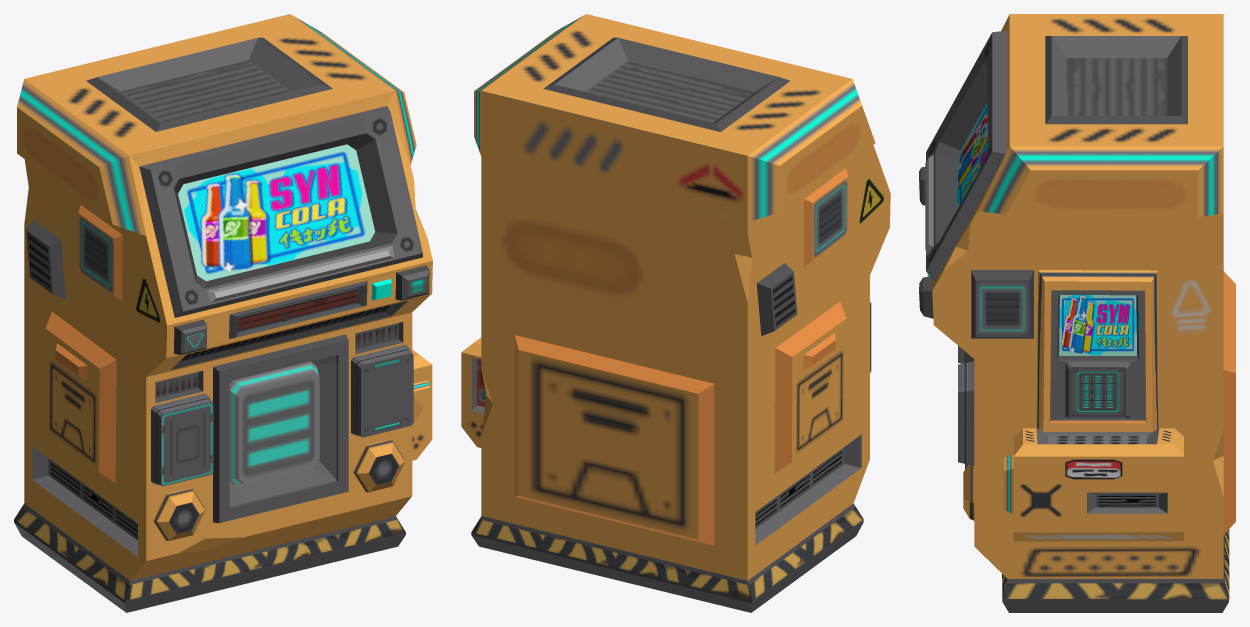
File: SM_Prop_Street_Console_02.fbx
The picture shows the model from 3 angles, left to right: view 1: azimuth 30°, elevation 25°; view 2: azimuth 150°, elevation 25°; view 3: azimuth 270°, elevation 25°; orthographic projection.
Visible parts, largest first — view 1: SM_Prop_Street_Console_02; view 2: SM_Prop_Street_Console_02; view 3: SM_Prop_Street_Console_02.
Boxes of the visible parts, bbox=[...] form: SM_Prop_Street_Console_02: bbox=[14, 14, 432, 612]; SM_Prop_Street_Console_02: bbox=[461, 14, 890, 612]; SM_Prop_Street_Console_02: bbox=[919, 14, 1235, 612].
Size of the model in its own units: 100 by 136 by 83.16.
